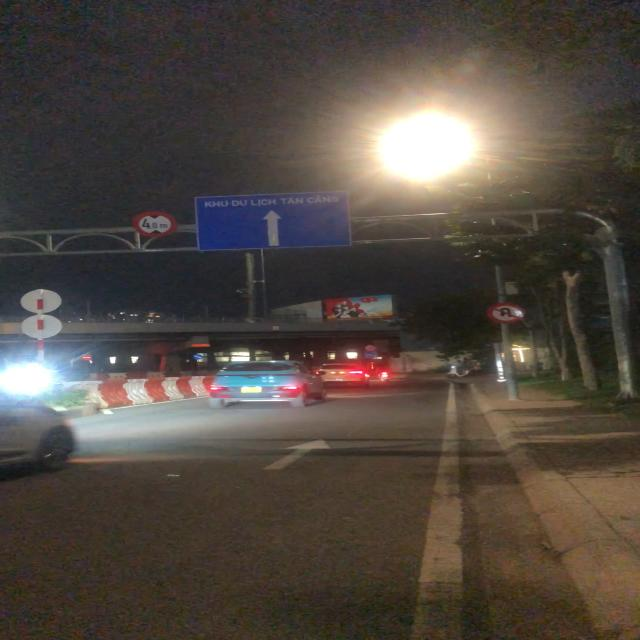Bien bao cam quay dau xe: (485, 300, 528, 325)
Bien bao han che chieu cao: (132, 210, 178, 238)
